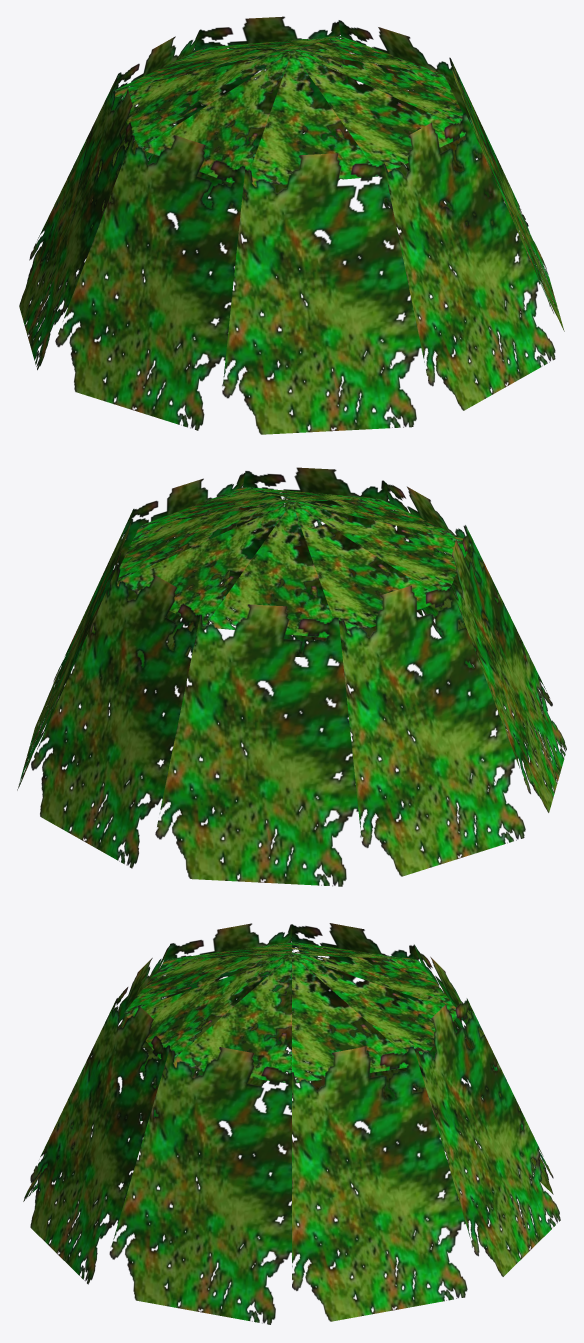
The model's file is bush3.glb.
3 renders of one model, top to bottom at view 1: azimuth 30°, elevation 25°; view 2: azimuth 150°, elevation 25°; view 3: azimuth 270°, elevation 25°, orthographic. The views are drawn at different scales.
Parts seen in each view (by area): view 1: tree2; view 2: tree2; view 3: tree2.
Boxes of the visible parts, x1=… form: tree2: x1=19, y1=16, x2=564, y2=434; tree2: x1=17, y1=467, x2=566, y2=886; tree2: x1=23, y1=923, x2=560, y2=1324.
Size of the model in its own units: 1.1 by 0.5592 by 1.1.
Materials: 1 (1 with a texture image).
